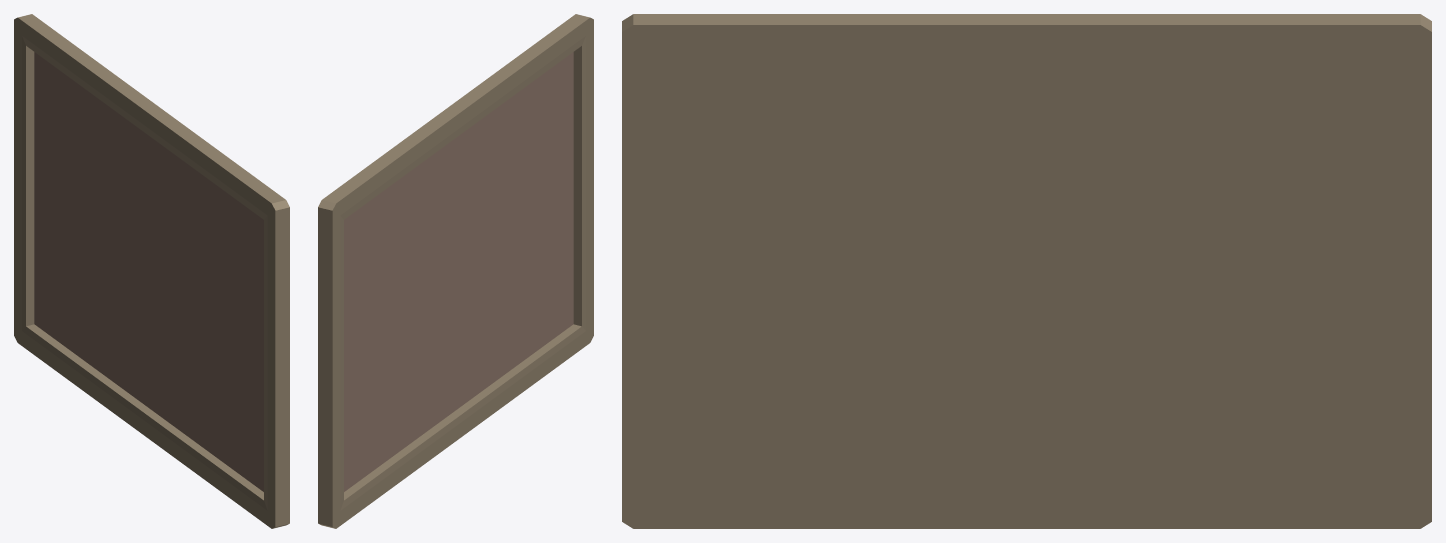
File: GameAsset_Board_v01.fbx
3 views of the same model, side by side, from view 1: azimuth 30°, elevation 25°; view 2: azimuth 150°, elevation 25°; view 3: azimuth 270°, elevation 25° (orthographic). The views are drawn at different scales.
Parts seen in each view (by area): view 1: board; view 2: board; view 3: board.
Boxes of the visible parts, x1,y1,x2,y2 form: board: [14, 14, 289, 528]; board: [318, 14, 593, 528]; board: [622, 14, 1431, 528].
Bounding box in the file's own units: 5.8 × 125 × 182.
